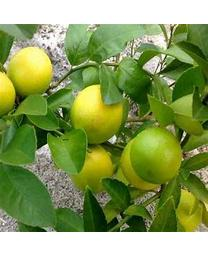lemon: (72, 84, 124, 144), (130, 128, 183, 182), (7, 46, 52, 96), (73, 144, 113, 194)
